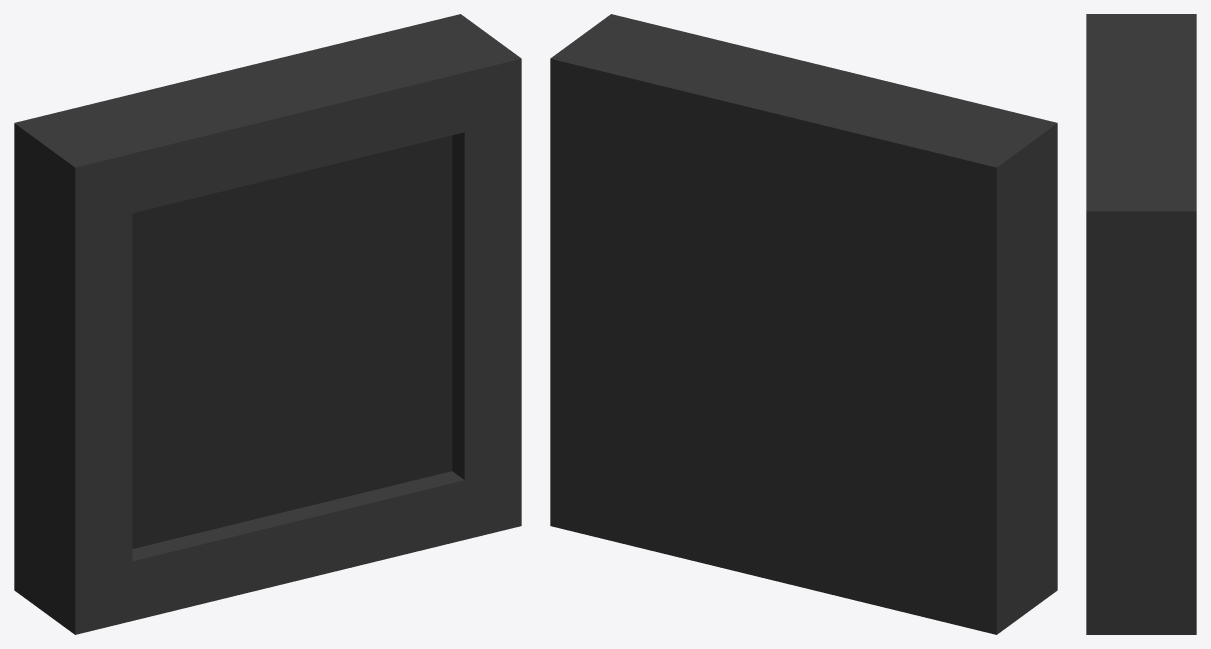
Rendered from Switch_C2.fbx.
The picture shows the model from 3 angles, left to right: view 1: azimuth 30°, elevation 25°; view 2: azimuth 150°, elevation 25°; view 3: azimuth 270°, elevation 25°; orthographic projection. The views are drawn at different scales.
Parts seen in each view (by area): view 1: Switch_C2; view 2: Switch_C2; view 3: Switch_C2.
Part boxes in pixels (box(x1,y1,x2,y2)): Switch_C2: box(14, 14, 521, 634); Switch_C2: box(550, 14, 1057, 634); Switch_C2: box(1086, 14, 1196, 634).
Bounding box in the file's own units: 8.28 × 8.28 × 1.96.
